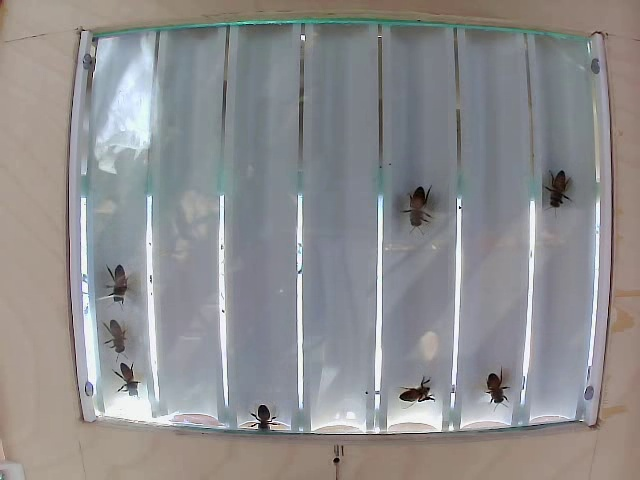bee: (401, 181, 436, 235), (541, 163, 574, 214), (99, 314, 136, 358), (482, 365, 510, 411), (104, 260, 130, 307), (111, 358, 138, 399), (398, 377, 436, 402), (244, 403, 281, 427)
